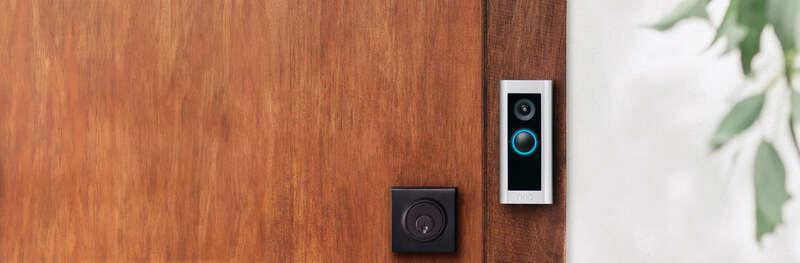doorbell: (491, 75, 559, 213)
